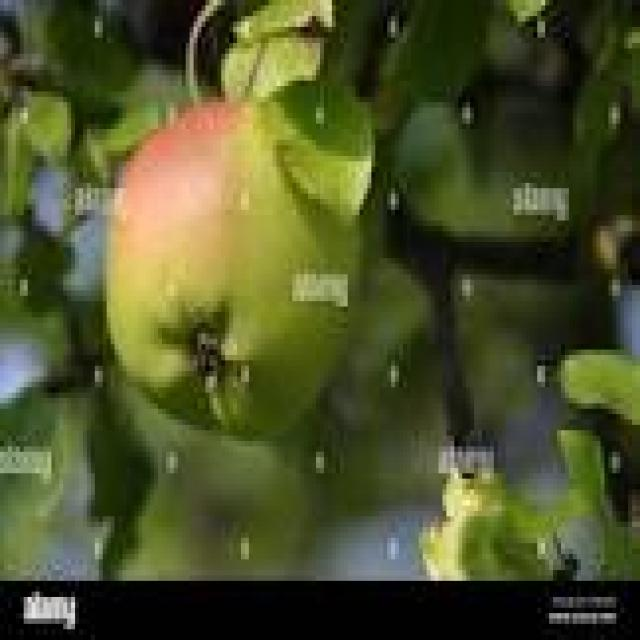apple: (103, 81, 371, 436)
